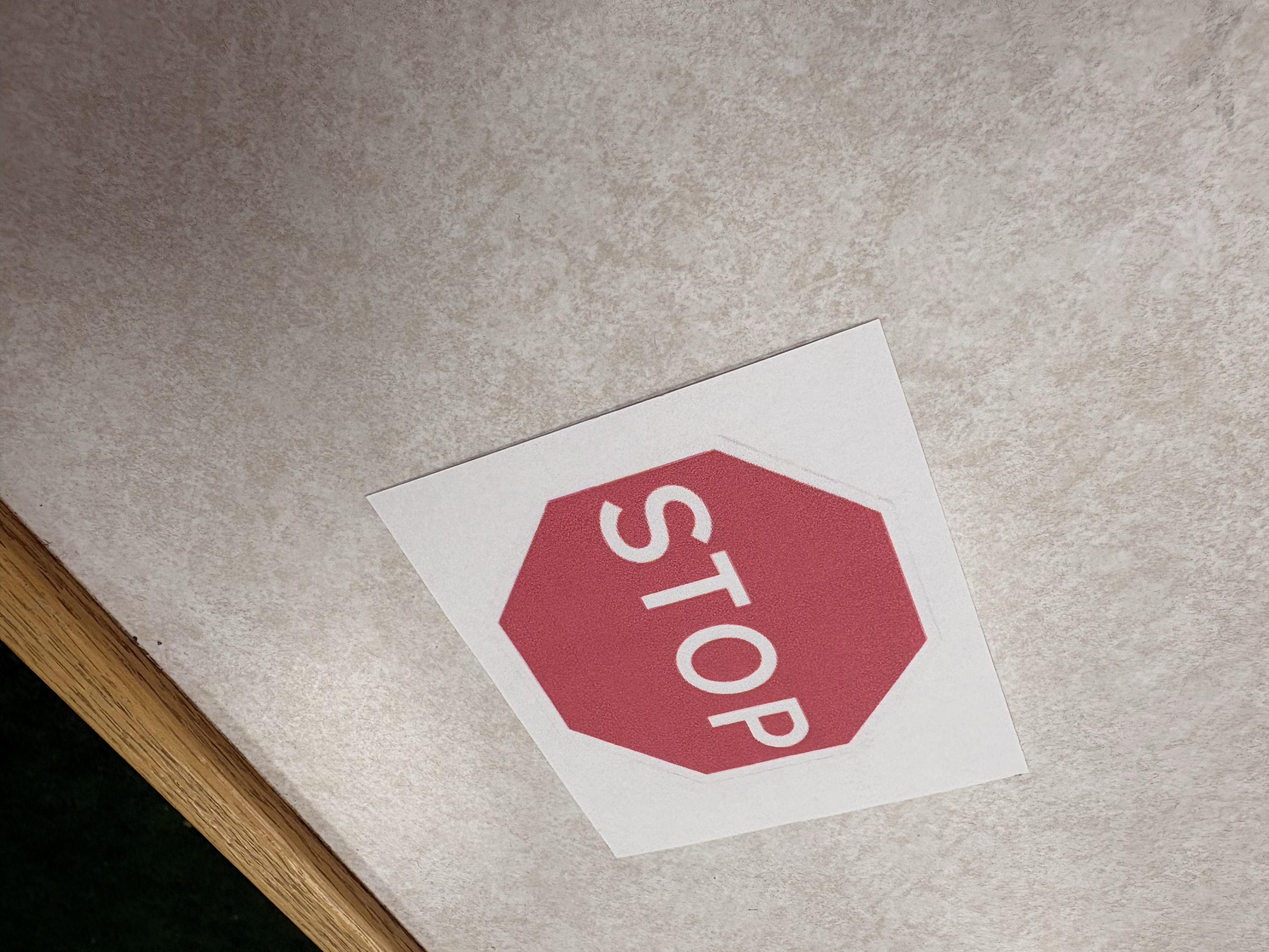Stop: (367, 322, 1032, 860)
